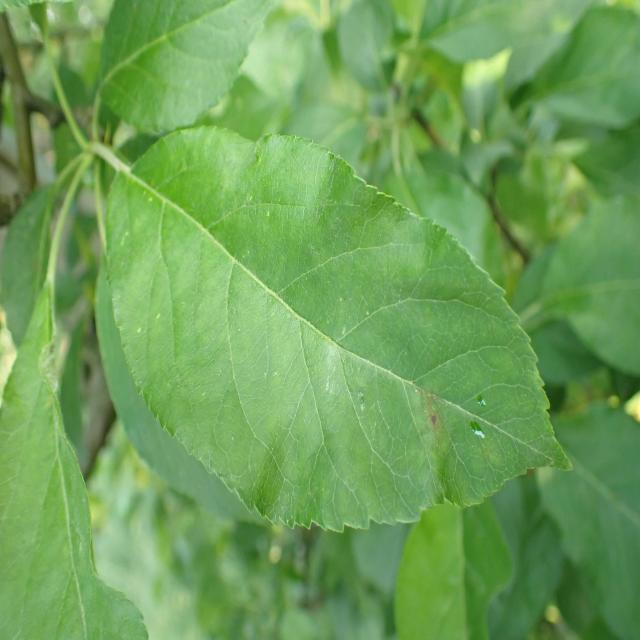scab: (288, 246, 558, 542)
